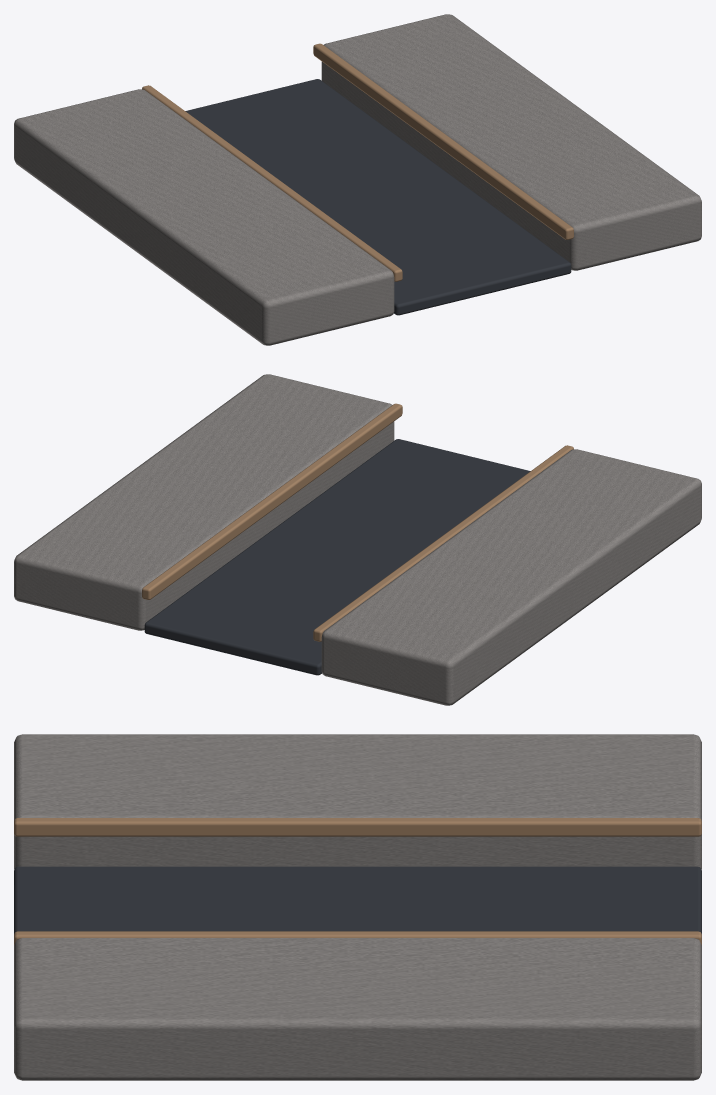
Rendered from arena-shooter-map-kit-pit-floor-12cd4ed2__23078.glb.
3 renders of one model, top to bottom at view 1: azimuth 30°, elevation 25°; view 2: azimuth 150°, elevation 25°; view 3: azimuth 270°, elevation 25°, orthographic. The views are drawn at different scales.
Parts seen in each view (by area): view 1: pit-floor; view 2: pit-floor; view 3: pit-floor.
Boxes of the visible parts, x1=… form: pit-floor: x1=14, y1=14, x2=701, y2=345; pit-floor: x1=14, y1=374, x2=701, y2=705; pit-floor: x1=14, y1=734, x2=701, y2=1080.
Size of the model in its own units: 2 by 0.2001 by 2.
Materials: 3 (1 with a texture image).
